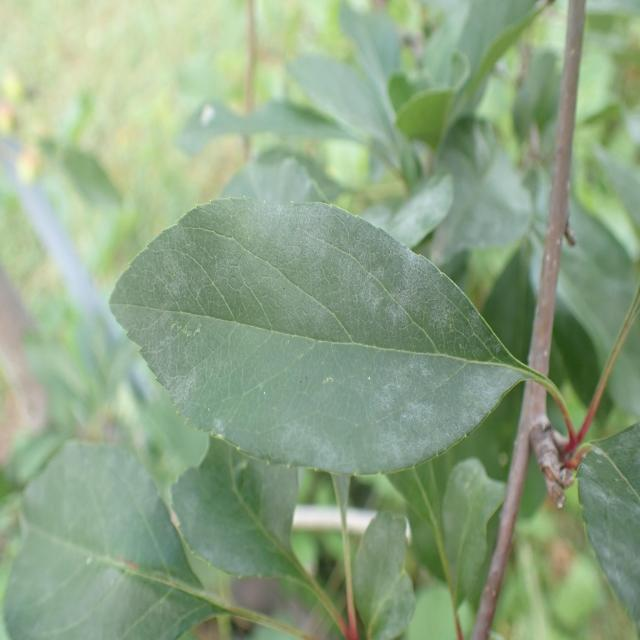Powdery_mildew: (107, 185, 548, 482), (568, 402, 640, 640)
